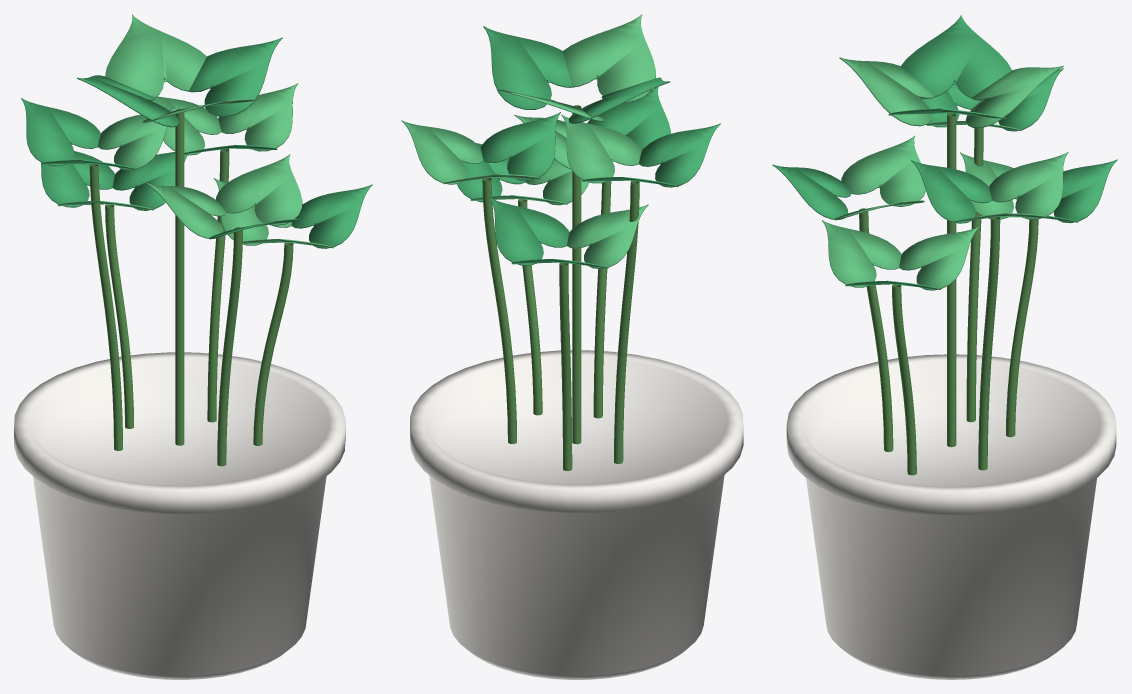
Rendered from plant.glb.
3 renders of one model, left to right at view 1: azimuth 30°, elevation 25°; view 2: azimuth 150°, elevation 25°; view 3: azimuth 270°, elevation 25°, orthographic.
Visible parts, largest first — view 1: Pot, Leaf0_3, Leaf0_2, Leaf3_2, Leaf2_2, Stem0, Leaf1_2, Leaf5_1, Stem2, Leaf2_1, Stem3, Leaf4_0 (+8 smaller); view 2: Pot, Leaf0_1, Leaf0_2, Leaf1_1, Leaf4_2, Leaf2_1, Leaf1_2, Leaf2_0, Leaf4_1, Stem1, Stem2, Leaf3_1 (+9 smaller); view 3: Pot, Leaf0_0, Leaf3_0, Leaf1_0, Leaf5_0, Leaf0_1, Leaf5_2, Leaf1_1, Leaf0_3, Stem1, Stem2, Stem0 (+8 smaller).
Part boxes in pixels (x1,y1,x2,y2): Pot: [14, 352, 345, 679]; Leaf0_3: [105, 14, 206, 97]; Leaf0_2: [189, 37, 282, 116]; Leaf3_2: [216, 154, 302, 225]; Leaf2_2: [21, 98, 100, 166]; Stem0: [175, 109, 184, 445]; Leaf1_2: [218, 83, 298, 151]; Leaf5_1: [291, 184, 372, 248]; Stem2: [89, 163, 122, 450]; Leaf2_1: [97, 106, 179, 170]; Stem3: [217, 227, 242, 466]; Leaf4_0: [41, 151, 114, 207]; Pot: [410, 350, 743, 679]; Leaf0_1: [563, 14, 655, 103]; Leaf0_2: [483, 26, 573, 109]; Leaf1_1: [480, 112, 560, 180]; Leaf4_2: [489, 197, 569, 265]; Leaf2_1: [561, 114, 641, 183]; Leaf1_2: [401, 120, 483, 184]; Leaf2_0: [638, 123, 720, 187]; Leaf4_1: [567, 204, 648, 268]; Stem1: [482, 178, 516, 443]; Stem2: [614, 180, 639, 463]; Leaf3_1: [587, 86, 670, 149]; Pot: [786, 354, 1116, 679]; Leaf0_0: [901, 15, 1011, 101]; Leaf3_0: [841, 135, 925, 206]; Leaf1_0: [989, 152, 1068, 219]; Leaf5_0: [822, 220, 901, 287]; Leaf0_1: [839, 57, 934, 126]; Leaf5_2: [899, 226, 979, 290]; Leaf1_1: [911, 160, 991, 223]; Leaf0_3: [965, 65, 1063, 128]; Stem1: [978, 217, 1000, 470]; Stem2: [966, 127, 983, 422]; Stem0: [947, 113, 956, 447].
Bounding box in the file's own units: 0.8905 × 1.6 × 0.8803.
